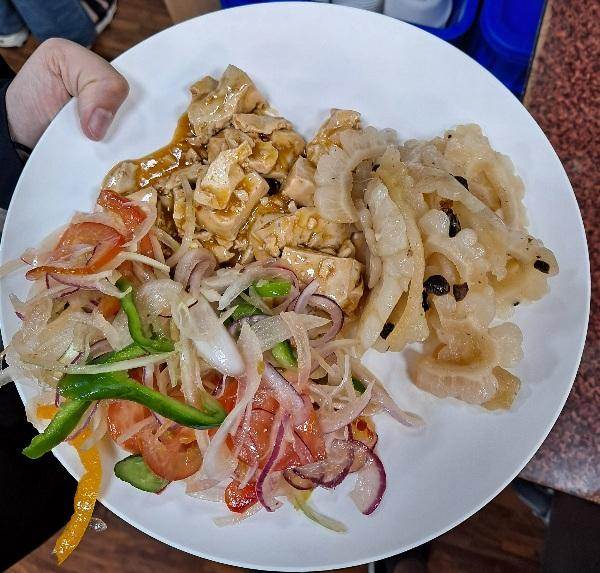big fried chicken leg: (5, 6, 592, 561)
braised fish fillet: (23, 269, 373, 529), (345, 117, 542, 409), (168, 75, 368, 267)
